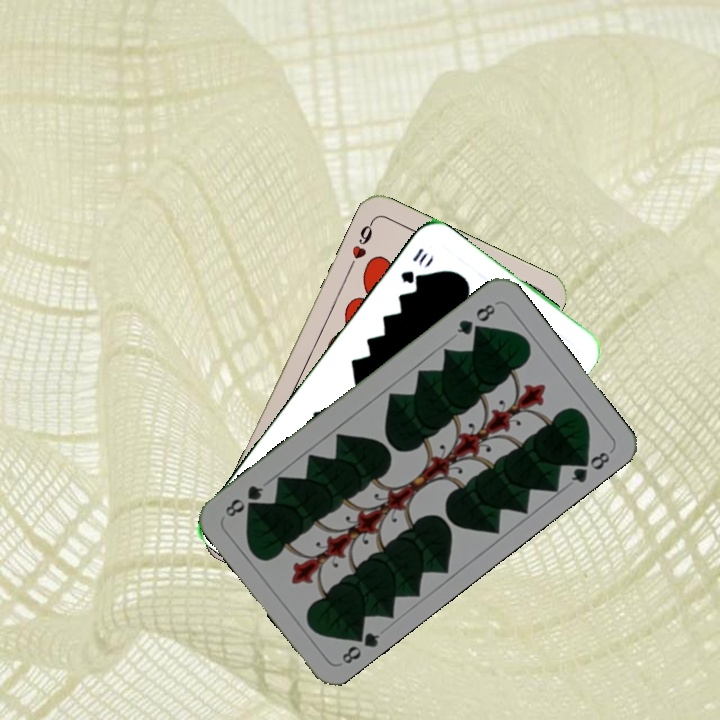G10: (396, 244, 432, 287)
G8: (337, 624, 383, 667), (452, 299, 498, 338)
H9: (344, 216, 376, 272)
